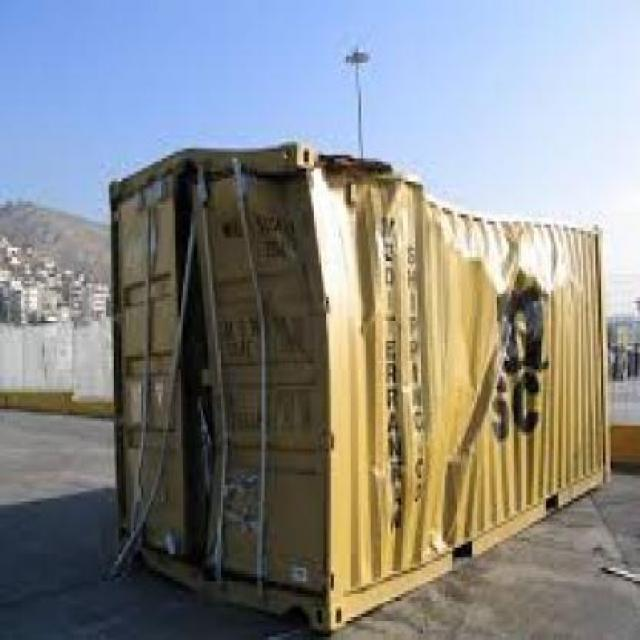Deframe_or_Dent: (81, 143, 329, 616), (310, 152, 606, 262), (432, 287, 574, 390), (348, 487, 436, 536), (446, 416, 488, 507)
